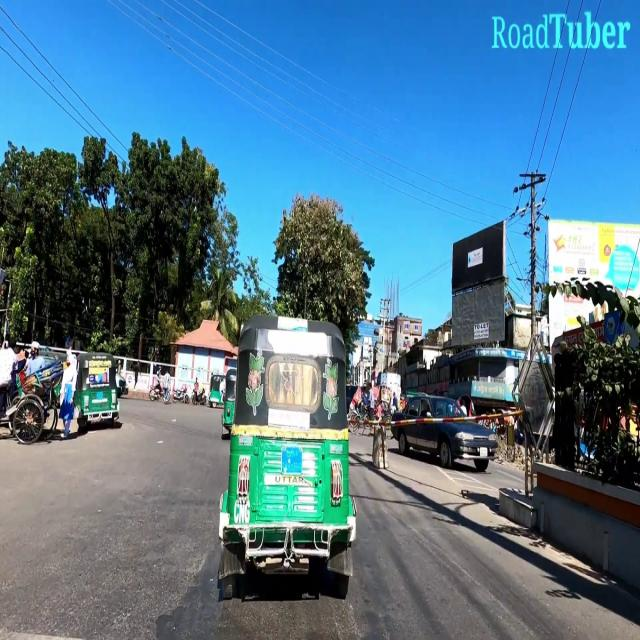blue: (388, 391, 499, 475)
